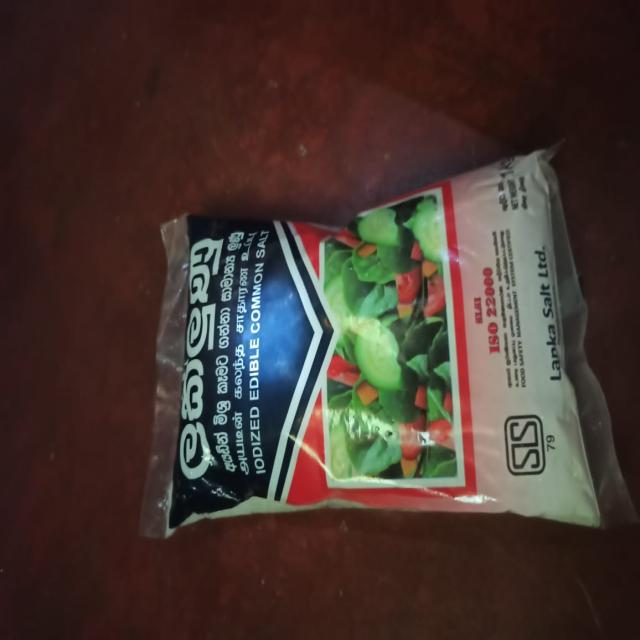Lak Lunu: (139, 175, 640, 619)
